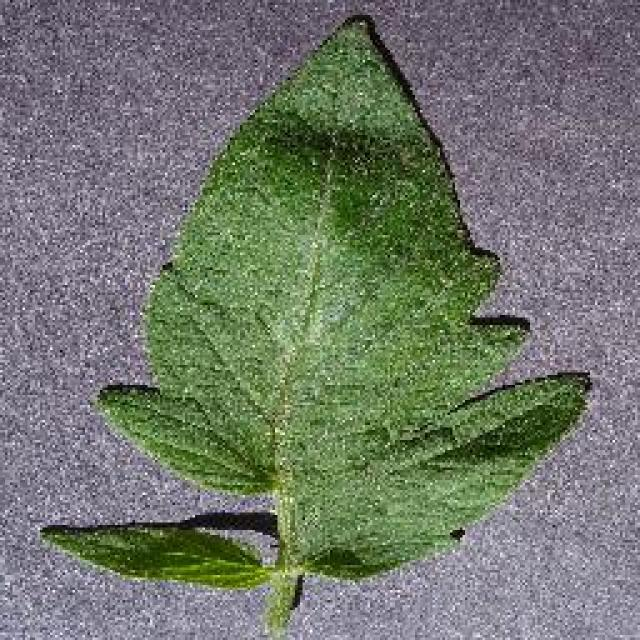healthy: (34, 20, 589, 625)
